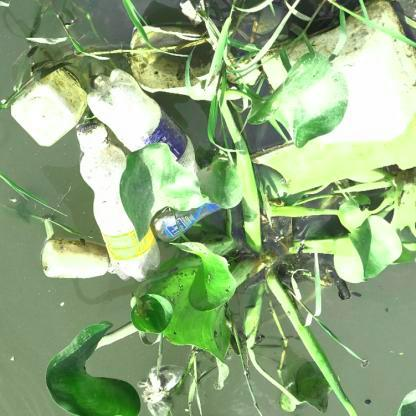Plastic: (64, 124, 168, 290), (81, 70, 209, 166), (8, 70, 89, 155), (158, 184, 240, 248), (28, 236, 108, 294)
Trash: (257, 1, 415, 211), (130, 21, 250, 97)
